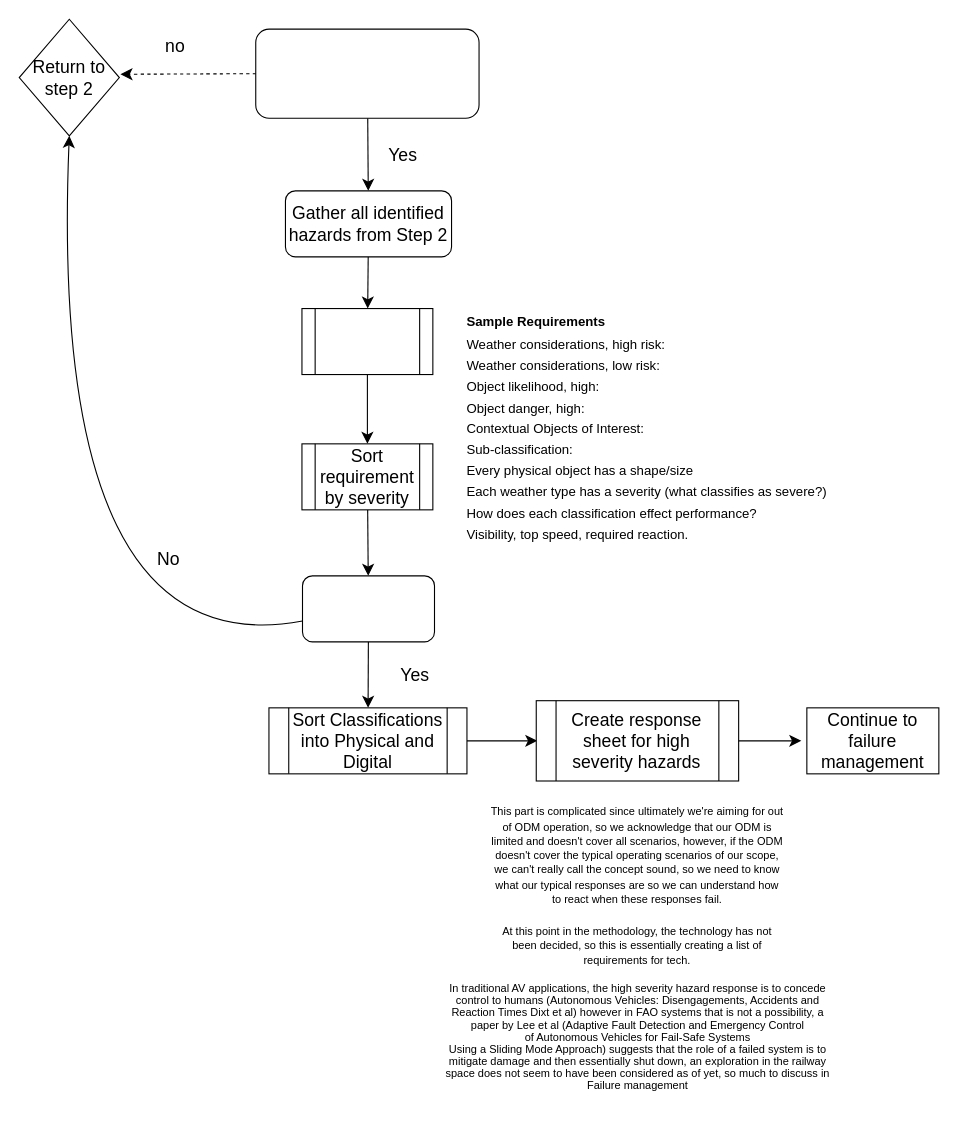
Image size: 958x1121. Some labels were removed from this diagram. The shapes that lost their labels are listed below. From the top down, each one's box as (x1, y1, x2, y2) in pixels, then its label:
(255, 28, 479, 118): Does information gathered from step 3 align with expectations from step 2?
(301, 307, 433, 375): Group by requirement
(301, 575, 435, 642): Can all requirements fit into ODM?
